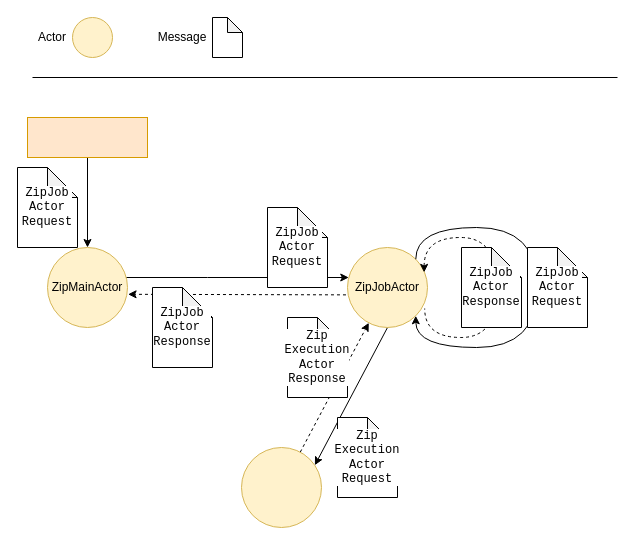
This 636x545 diagram has some shape labels left out. Here are the shapes that lost their labels. From the top down, the centre of each, then its label:
(x=87, y=137): main
(x=281, y=487): ZipExecution Actor
